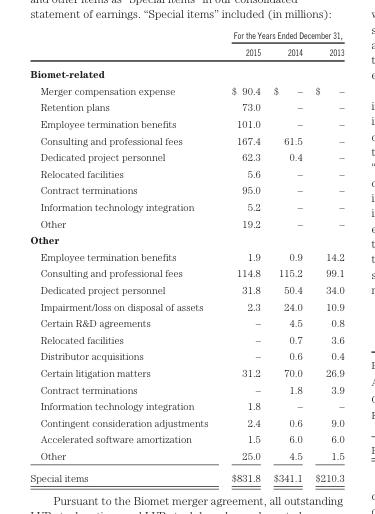table: (29, 29, 343, 482)
table column: (29, 29, 219, 482), (219, 29, 266, 482), (266, 29, 308, 482), (308, 29, 343, 482)
table column header: (29, 29, 343, 62)
table projected row header: (29, 62, 343, 81), (29, 231, 343, 247)
table row: (29, 43, 343, 62), (29, 62, 343, 81), (29, 447, 343, 466), (29, 81, 343, 98), (29, 98, 343, 115), (29, 131, 343, 148), (29, 164, 343, 181), (29, 181, 343, 198), (29, 214, 343, 231), (29, 247, 343, 264), (29, 264, 343, 281), (29, 297, 343, 314), (29, 330, 343, 347), (29, 347, 343, 364), (29, 380, 343, 397), (29, 413, 343, 430), (29, 430, 343, 447), (29, 115, 343, 131), (29, 148, 343, 164), (29, 198, 343, 214), (29, 231, 343, 247), (29, 281, 343, 297), (29, 314, 343, 330), (29, 364, 343, 380), (29, 397, 343, 413), (29, 466, 343, 482), (29, 29, 343, 43)
table spanning cell: (219, 29, 343, 43)
